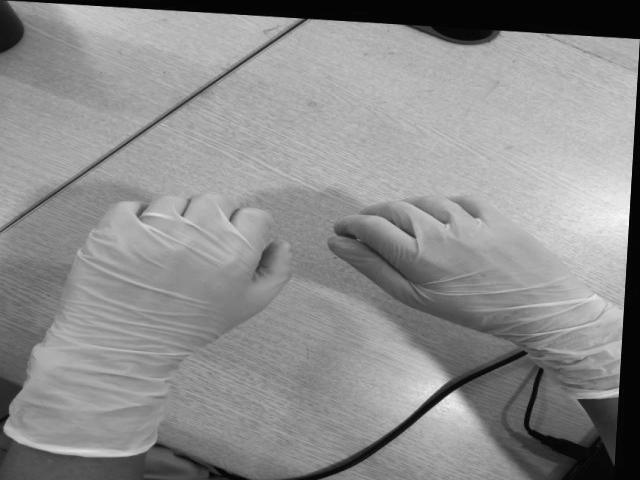gloved: (58, 195, 294, 344), (330, 196, 582, 312)
